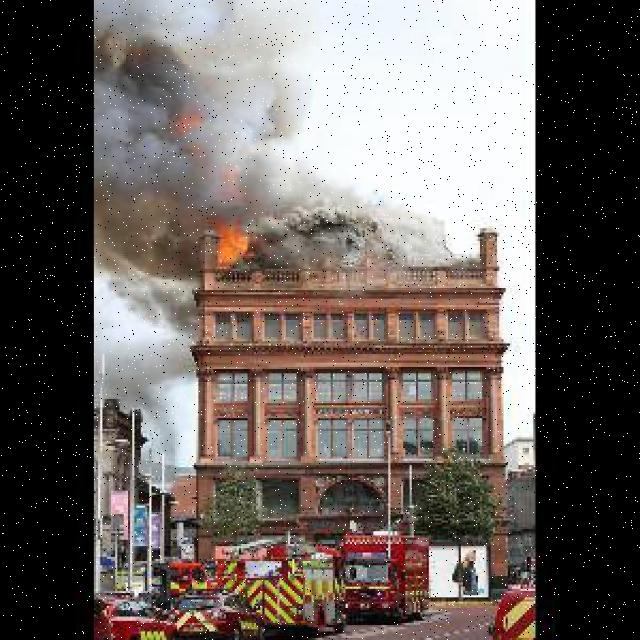fire: (209, 215, 262, 271)
smoke: (95, 0, 317, 223), (98, 215, 209, 446), (269, 156, 480, 273)
